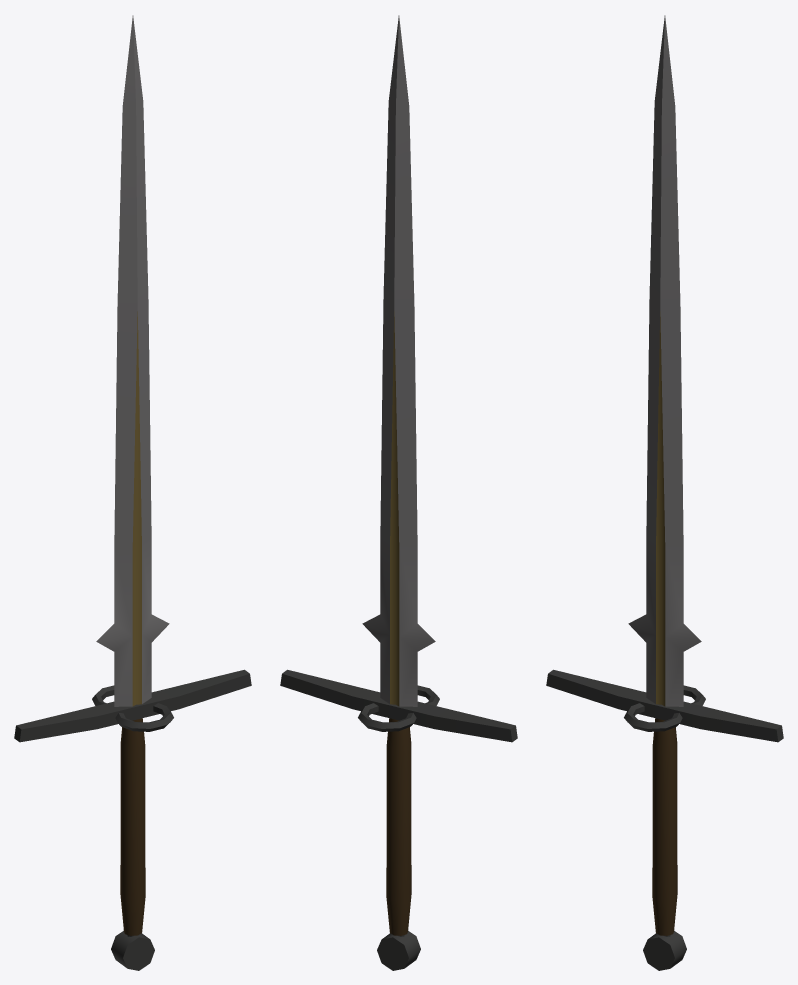
Rendered from bastard-sword.glb.
3 views of the same model, side by side, from view 1: azimuth 30°, elevation 25°; view 2: azimuth 150°, elevation 25°; view 3: azimuth 330°, elevation 25° (orthographic).
Parts seen in each view (by area): view 1: Bastard Sword - 19-low-poly-fantasy-weapons; view 2: Bastard Sword - 19-low-poly-fantasy-weapons; view 3: Bastard Sword - 19-low-poly-fantasy-weapons.
Part boxes in pixels (left/top/right/bottom): Bastard Sword - 19-low-poly-fantasy-weapons: left=14, top=15, right=251, bottom=970; Bastard Sword - 19-low-poly-fantasy-weapons: left=280, top=15, right=517, bottom=970; Bastard Sword - 19-low-poly-fantasy-weapons: left=546, top=15, right=783, bottom=970.
Size of the model in its own units: 0.385 by 1.51 by 0.1462.
